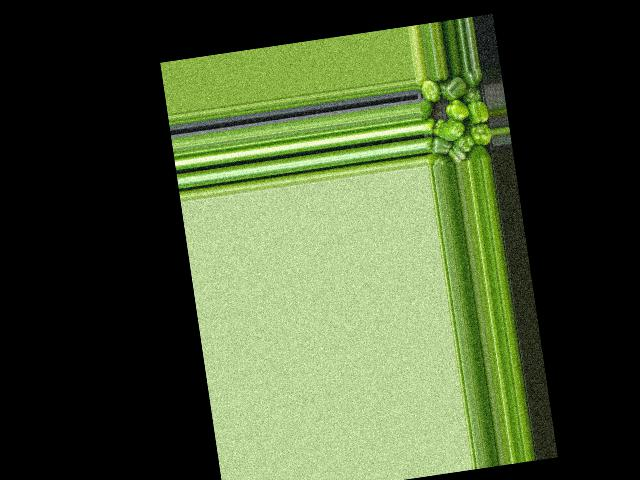bell_pepper: (464, 144, 485, 162)
